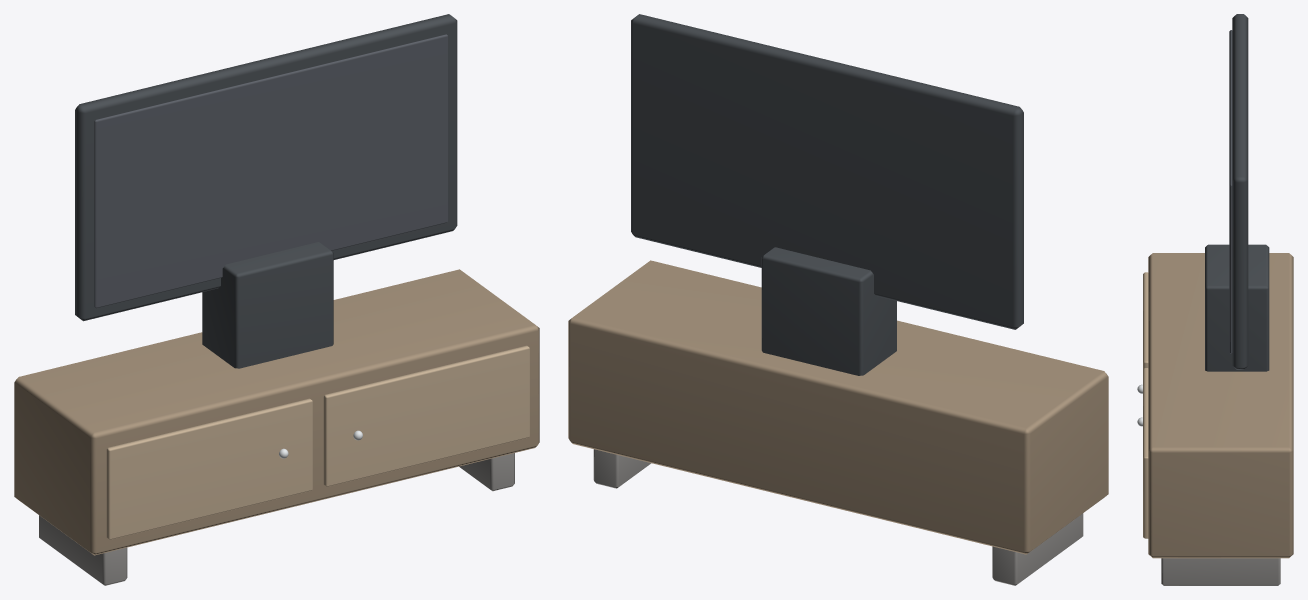
3 renders of one model, left to right at view 1: azimuth 30°, elevation 25°; view 2: azimuth 150°, elevation 25°; view 3: azimuth 270°, elevation 25°, orthographic. The views are drawn at different scales.
Parts seen in each view (by area): view 1: furn_tv; view 2: furn_tv; view 3: furn_tv.
Part boxes in pixels (x1,y1,x2,y2): furn_tv: [14, 14, 539, 585]; furn_tv: [568, 14, 1108, 585]; furn_tv: [1137, 14, 1293, 585].
Bounding box in the file's own units: 1.45 × 1.37 × 0.484.
